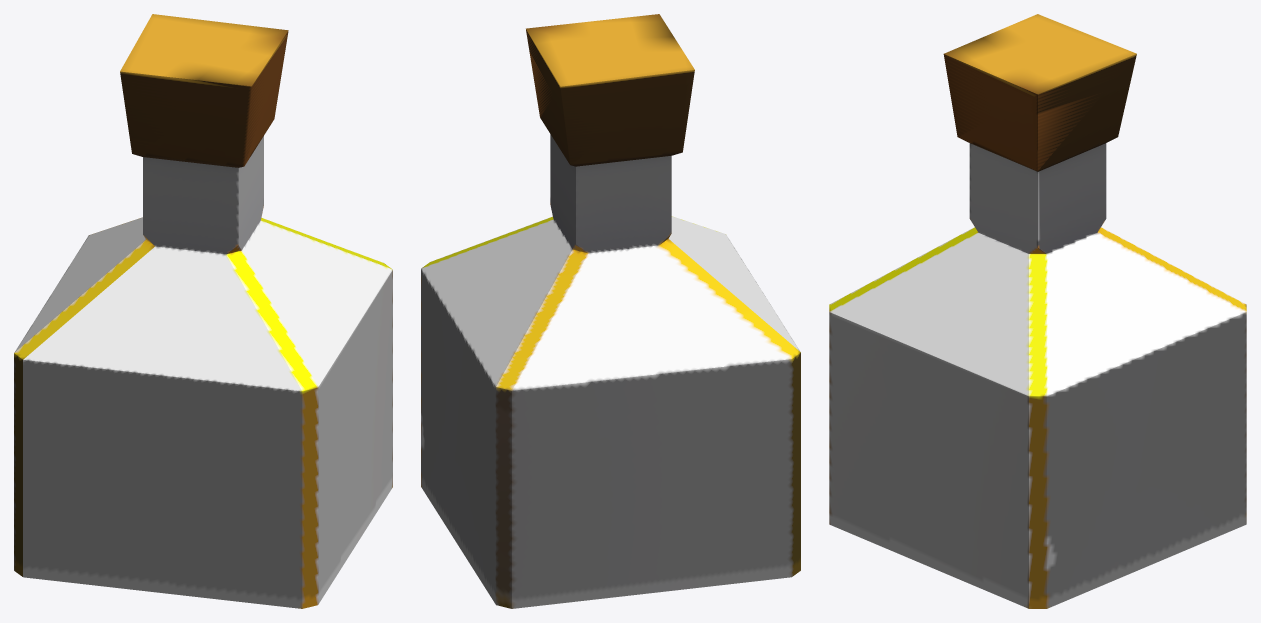
Rendered from Potion1.fbx.
3 views of the same model, side by side, from view 1: azimuth 30°, elevation 25°; view 2: azimuth 150°, elevation 25°; view 3: azimuth 270°, elevation 25° (orthographic). The views are drawn at different scales.
Parts seen in each view (by area): view 1: Cylinder.008; view 2: Cylinder.008; view 3: Cylinder.008.
Boxes of the visible parts, box(x1,y1,x2,y2) form: Cylinder.008: box(14, 14, 392, 608); Cylinder.008: box(421, 14, 800, 608); Cylinder.008: box(829, 14, 1246, 608).
Size of the model in its own units: 52.5 by 64.84 by 52.5.
